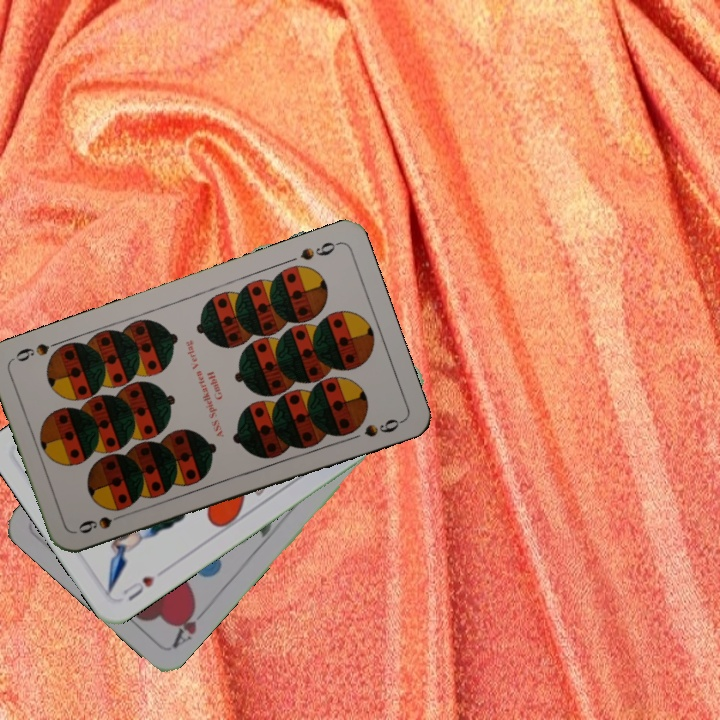HA: (167, 598, 212, 651)
HU: (118, 572, 158, 604)
S9: (74, 508, 131, 537), (296, 237, 342, 263)
